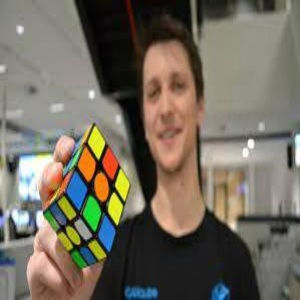cube: (42, 121, 131, 271)
